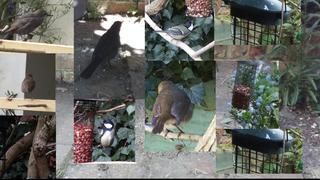blackbird: (80, 20, 125, 79)
great tit: (152, 20, 194, 45), (89, 119, 115, 152)
robin: (151, 81, 196, 140), (21, 73, 36, 101)
starling: (3, 8, 54, 42)
